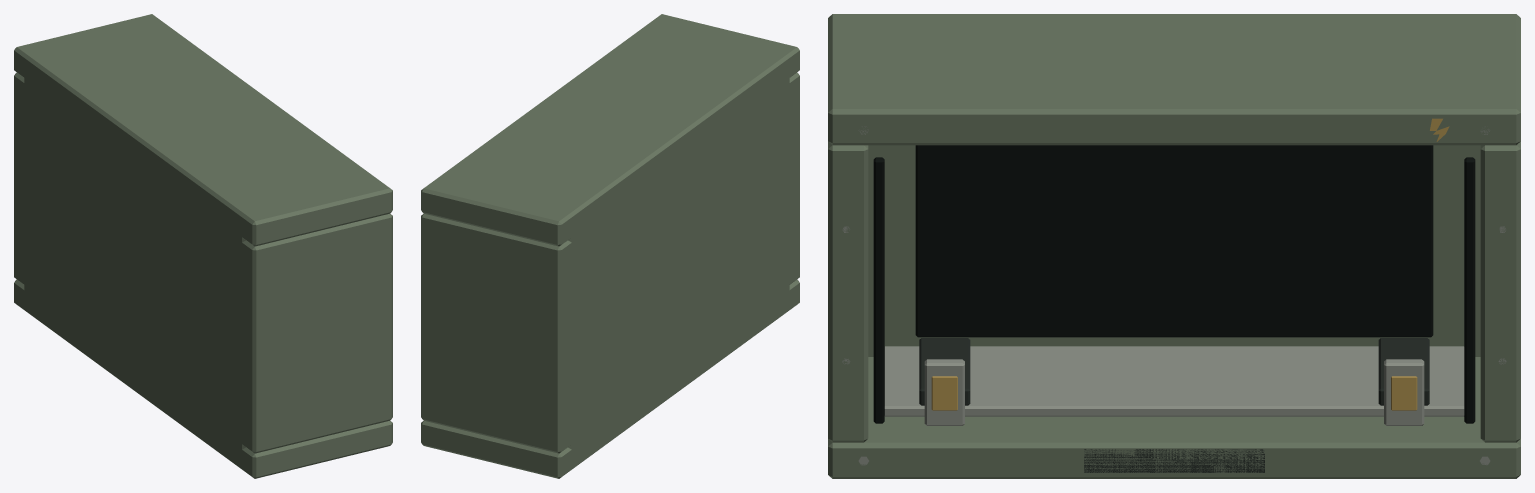
The model's file is rv_battery_bay.gltf.
The picture shows the model from 3 angles, left to right: view 1: azimuth 30°, elevation 25°; view 2: azimuth 150°, elevation 25°; view 3: azimuth 270°, elevation 25°; orthographic projection. The views are drawn at different scales.
Visible parts, largest first — view 1: rv_battery_bay; view 2: rv_battery_bay; view 3: rv_battery_bay.
Part boxes in pixels (left/top/right/bottom): rv_battery_bay: left=14, top=14, right=392, bottom=478; rv_battery_bay: left=421, top=14, right=799, bottom=478; rv_battery_bay: left=828, top=14, right=1520, bottom=478.
Bounding box in the file's own units: 0.321 × 0.56 × 0.95.
